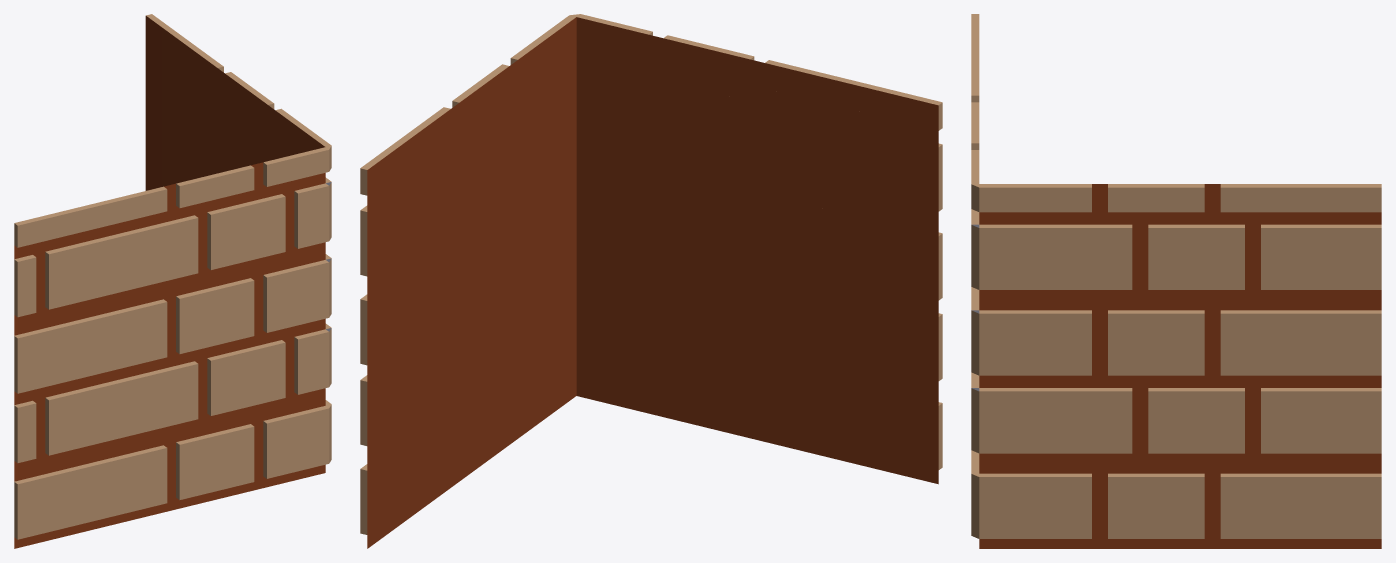
Rendered from Ext-BrickV1CornerHalfWall.fbx.
3 views of the same model, side by side, from view 1: azimuth 30°, elevation 25°; view 2: azimuth 150°, elevation 25°; view 3: azimuth 270°, elevation 25° (orthographic). The views are drawn at different scales.
Visible parts, largest first — view 1: Ext-BrickV1CornerHalfWall; view 2: Ext-BrickV1CornerHalfWall; view 3: Ext-BrickV1CornerHalfWall.
Boxes of the visible parts, bbox=[...] form: Ext-BrickV1CornerHalfWall: bbox=[14, 14, 331, 548]; Ext-BrickV1CornerHalfWall: bbox=[360, 14, 942, 548]; Ext-BrickV1CornerHalfWall: bbox=[971, 14, 1381, 548].
Bounding box in the file's own units: 102 × 100 × 102.
